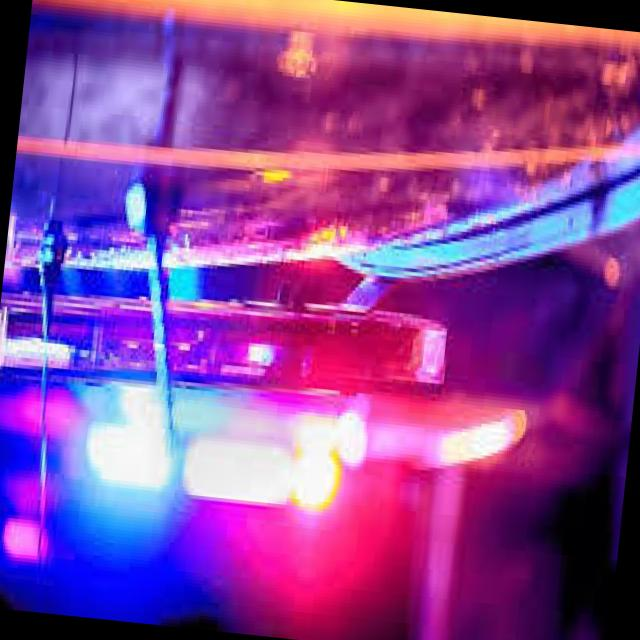ambulance: (56, 332, 409, 552)
